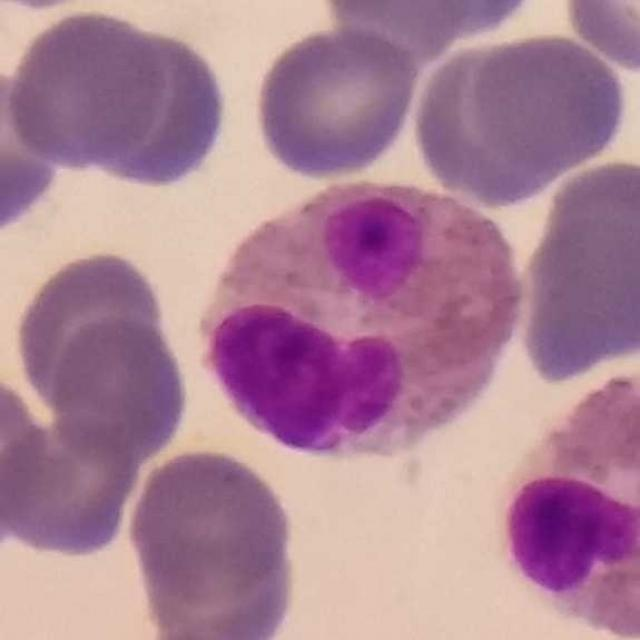Eosinophil: (182, 170, 543, 454), (487, 373, 640, 638)
RBC: (408, 38, 574, 209), (248, 22, 423, 182), (2, 6, 170, 172), (72, 21, 233, 194), (10, 246, 173, 413), (466, 28, 634, 185), (132, 451, 293, 592), (44, 312, 192, 464), (0, 416, 142, 562), (511, 216, 640, 374), (138, 521, 294, 640), (537, 154, 639, 282), (0, 64, 67, 238), (322, 0, 544, 47), (557, 0, 640, 75), (0, 382, 40, 504)
